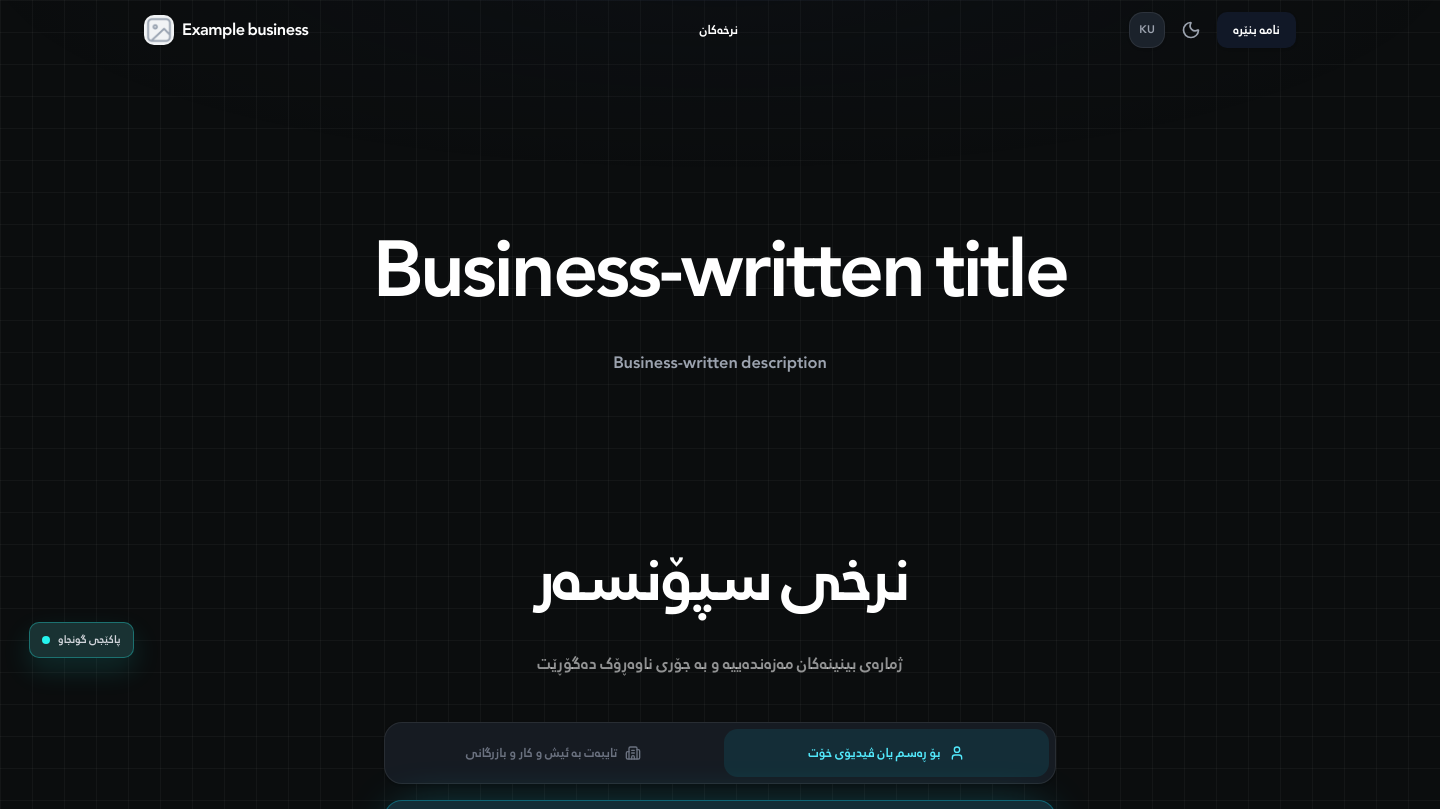
it: public business advertising language › changes application text without changing stored business content
Expected: the heading "نرخی سپۆنسەر" is shown, [531,521,909,636]
Click the button with aria-label "گۆڕینی زمان بۆ عەرەبی".
click(1147, 30)  # box [1129,12,1165,48]
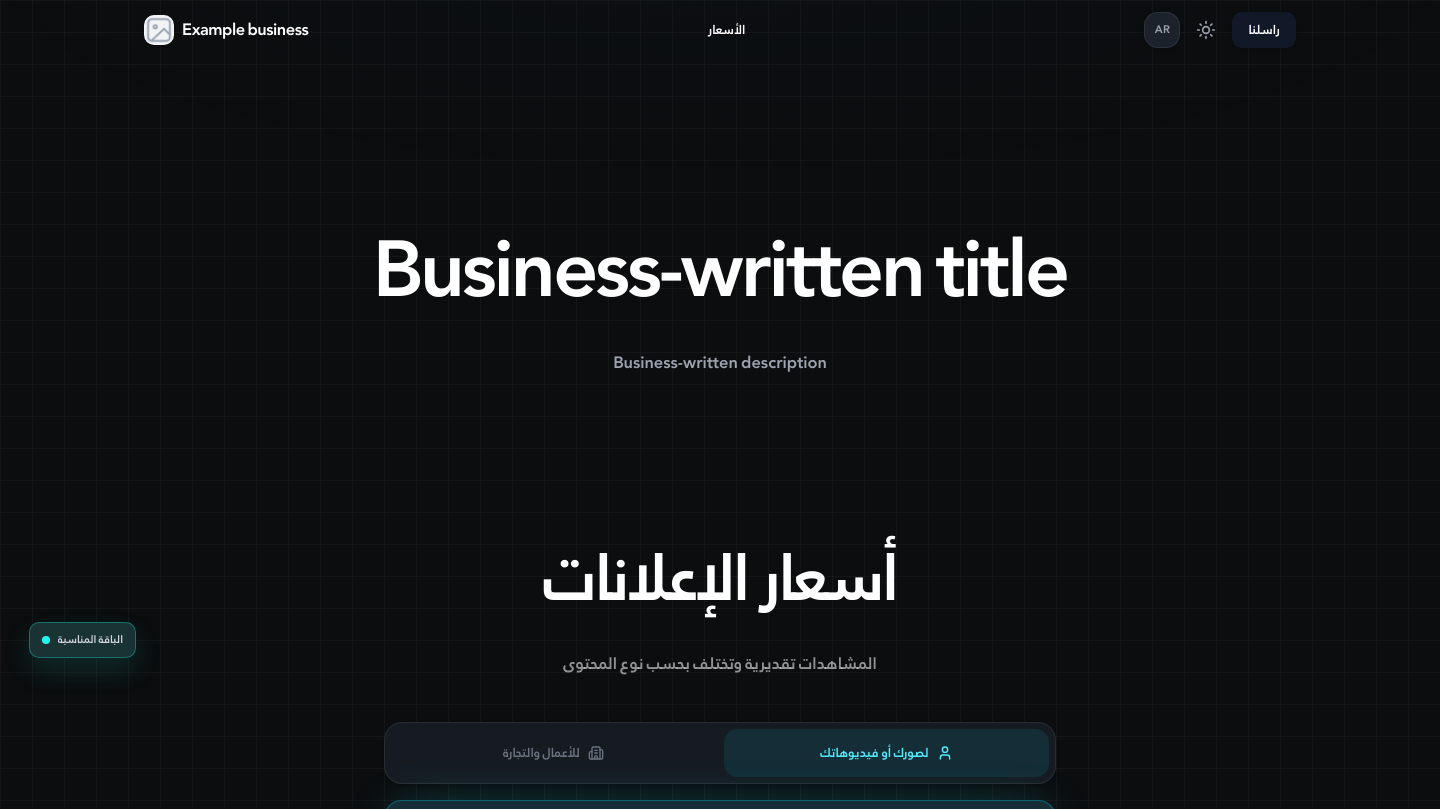
Expected: the text "Business-written description" is shown, [613,345,827,381]
Result: the heading "أسعار الإعلانات" is shown at [544,521,896,636]
Result: the tab "لصورك أو فيديوهاتك" is shown at [724,729,1049,777]
